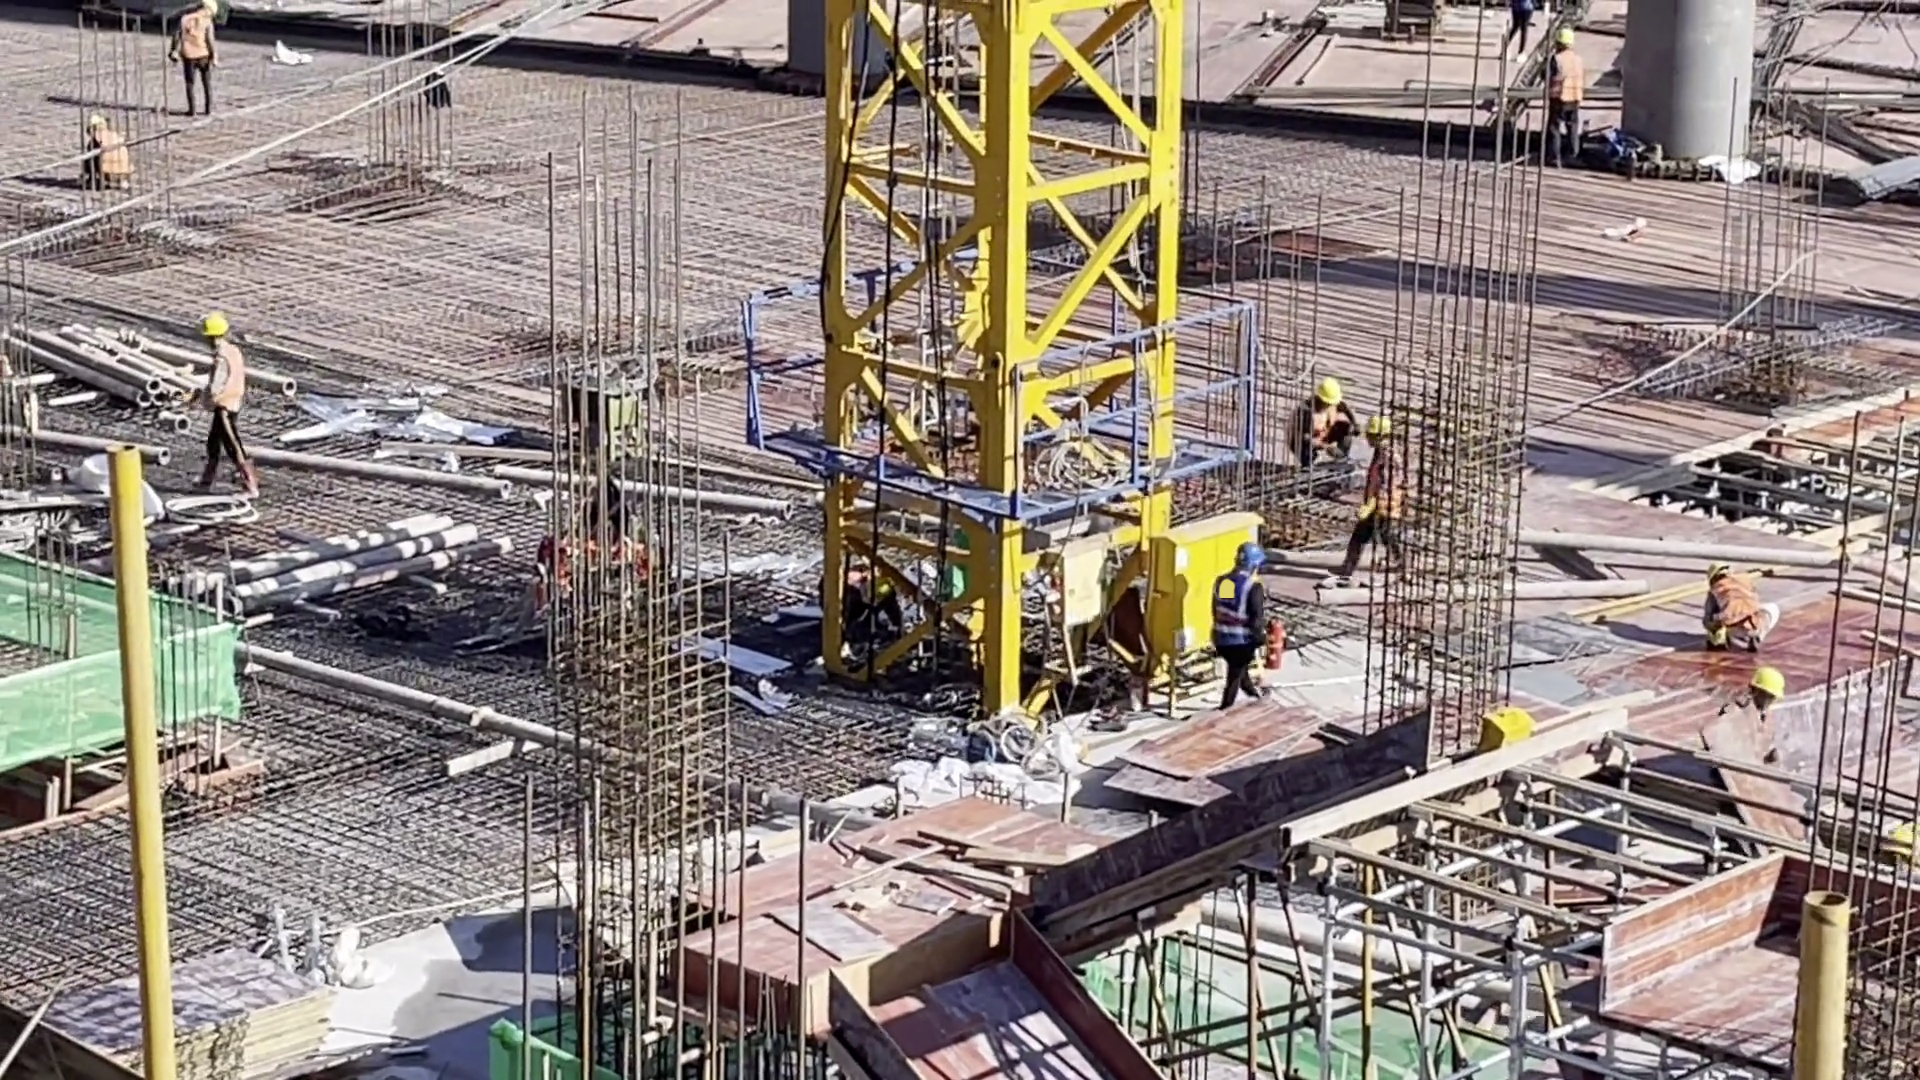board: (39, 939, 330, 1080)
ebox: (1144, 530, 1203, 715), (1044, 534, 1109, 691), (1469, 706, 1533, 754)
helmet: (1224, 536, 1272, 565), (1751, 666, 1789, 702), (194, 314, 229, 340), (1313, 381, 1342, 411)
person: (189, 313, 259, 496), (1206, 539, 1274, 712), (1347, 415, 1412, 583), (1281, 370, 1360, 473), (1701, 563, 1781, 651), (1540, 31, 1586, 164), (178, 1, 222, 116), (80, 113, 142, 192)
rebar: (1822, 138, 1920, 219)
vest: (1207, 574, 1271, 664), (204, 344, 245, 419), (1708, 589, 1758, 642), (178, 12, 216, 63), (1553, 49, 1580, 106)
